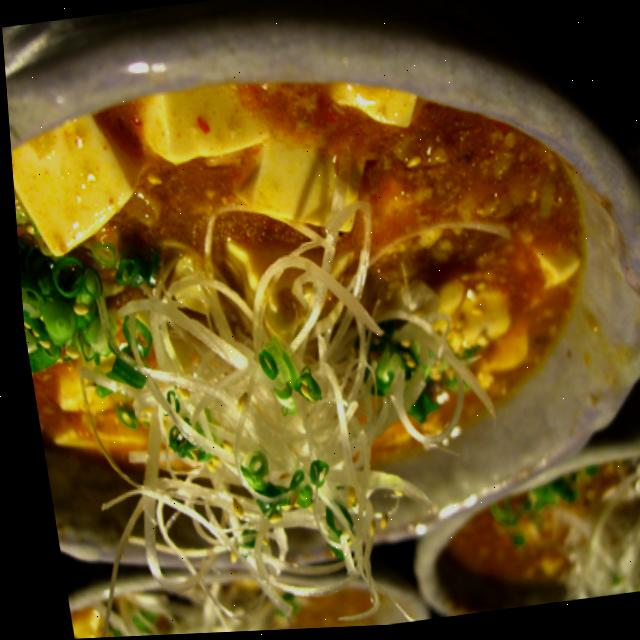豆腐料理: (0, 0, 640, 617)
